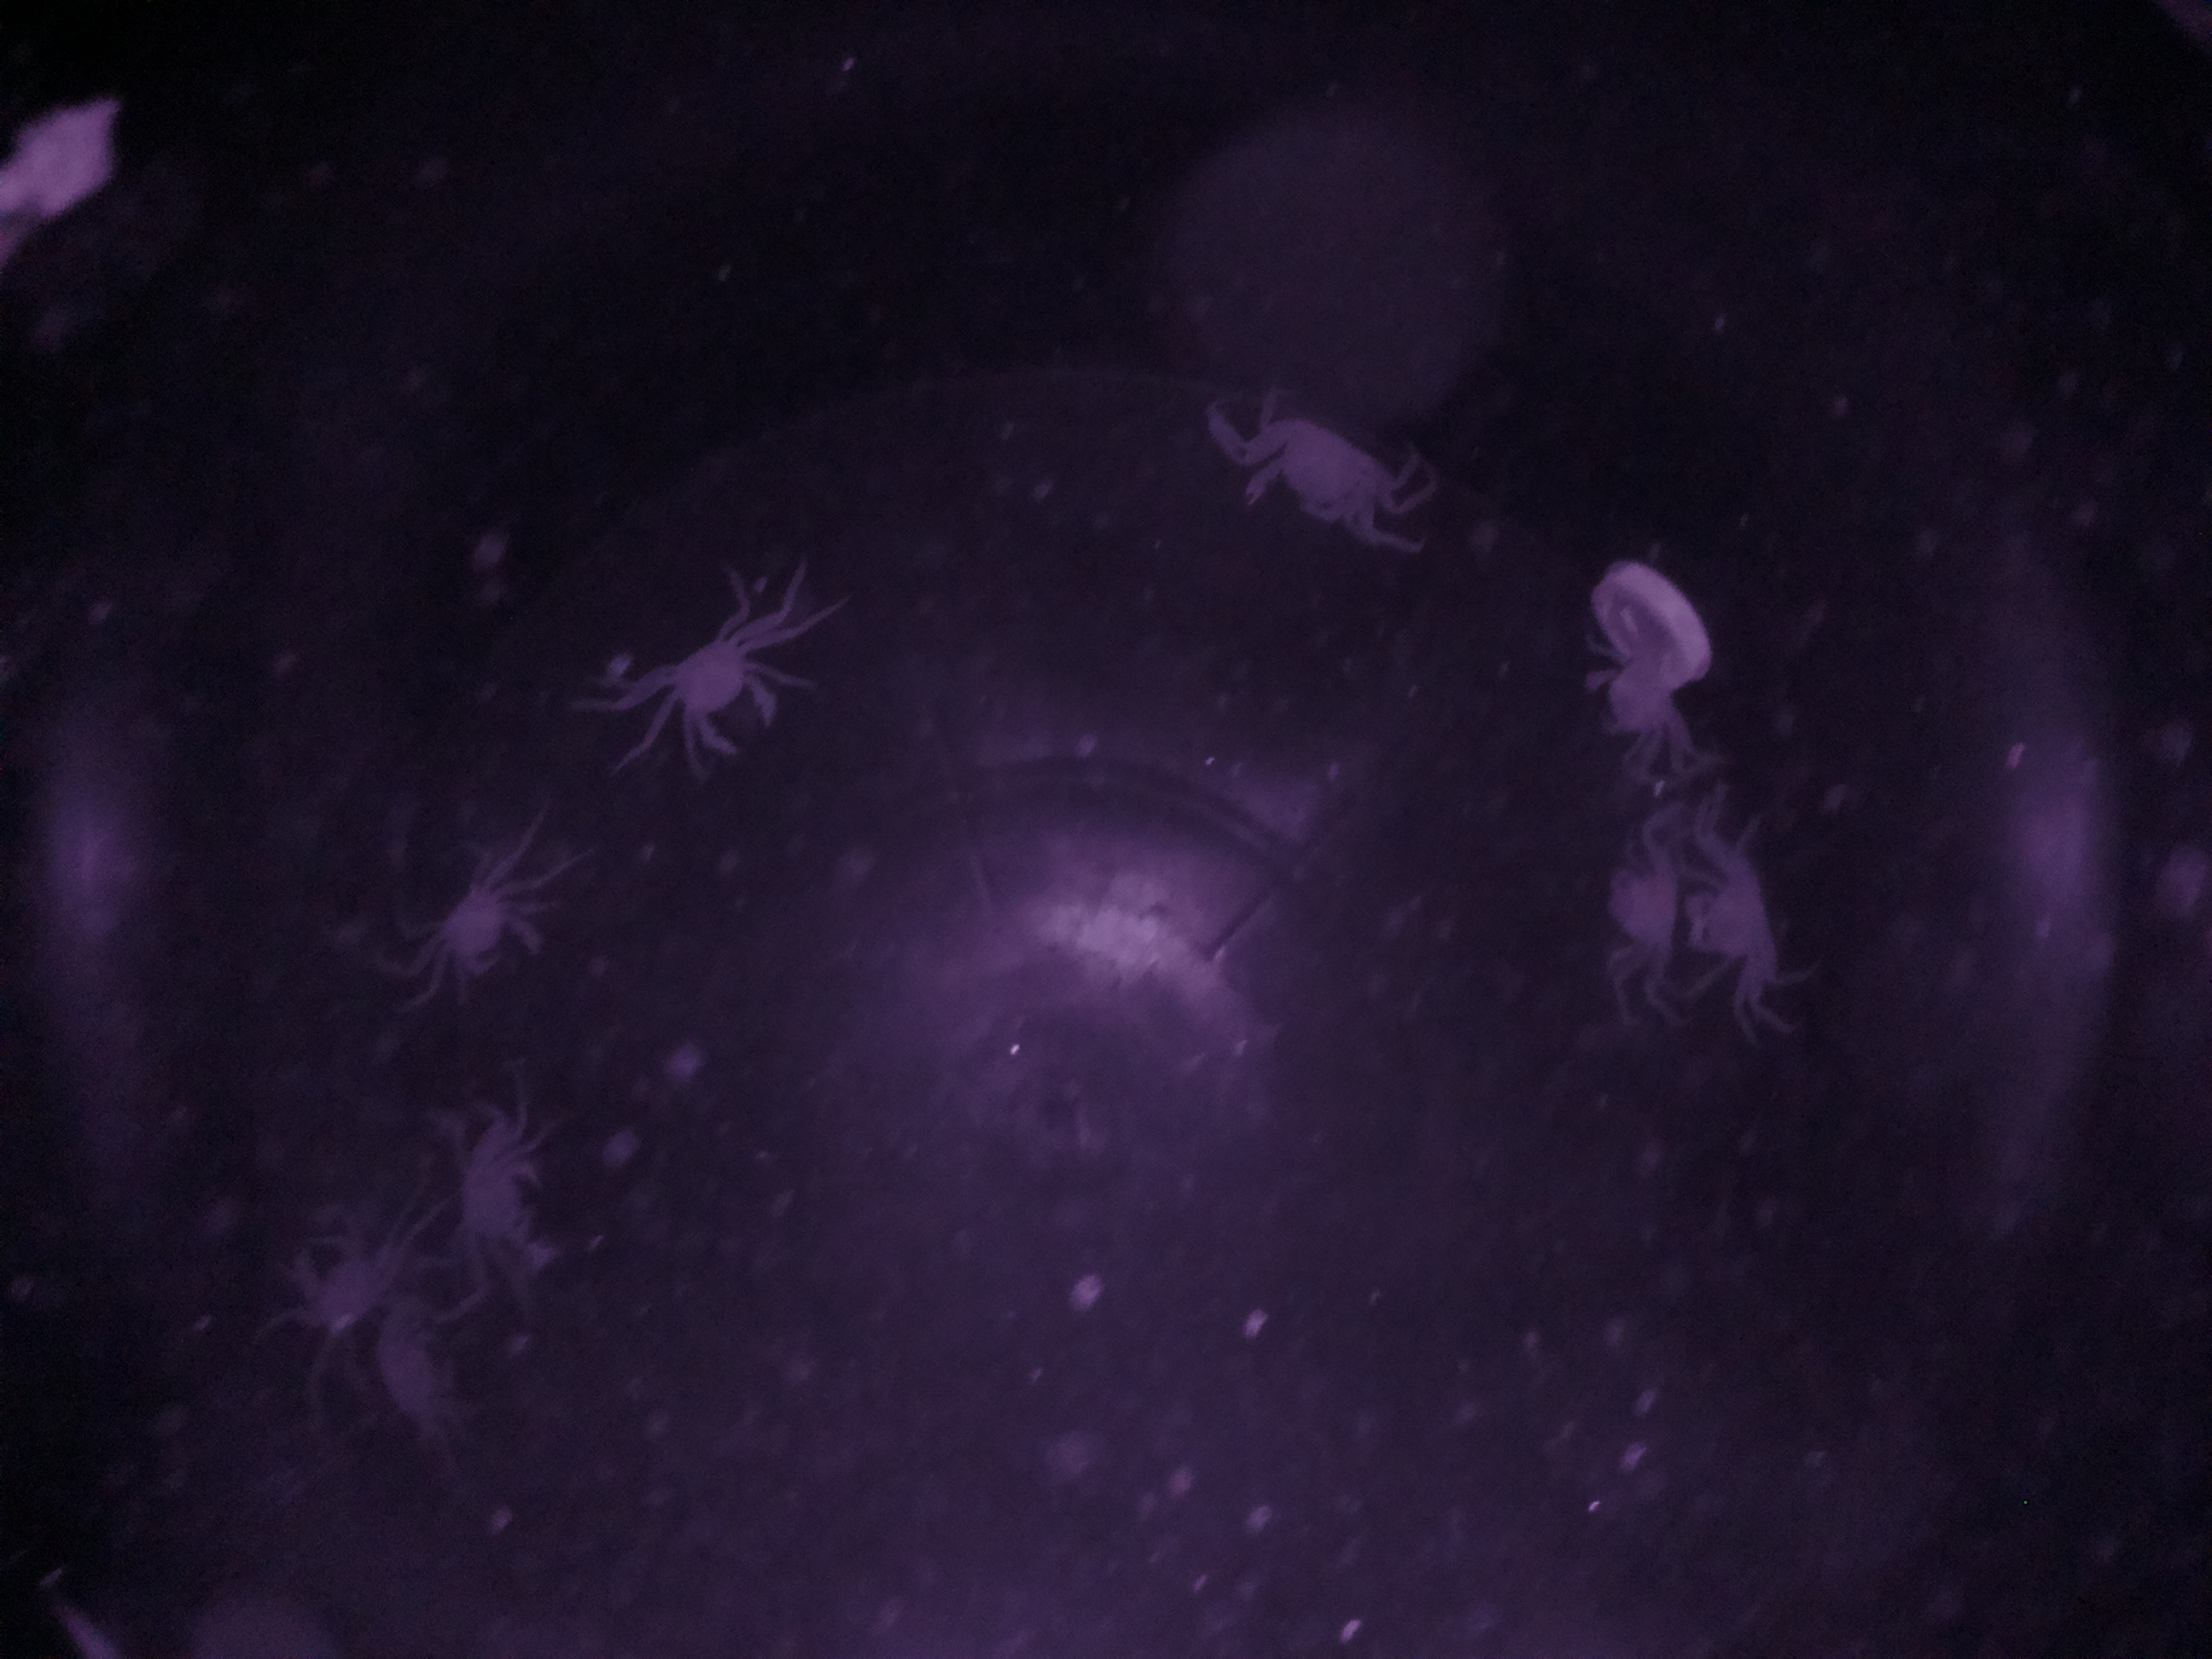Crab: (1226, 385, 1402, 573), (644, 592, 806, 781), (1691, 803, 1796, 957)
